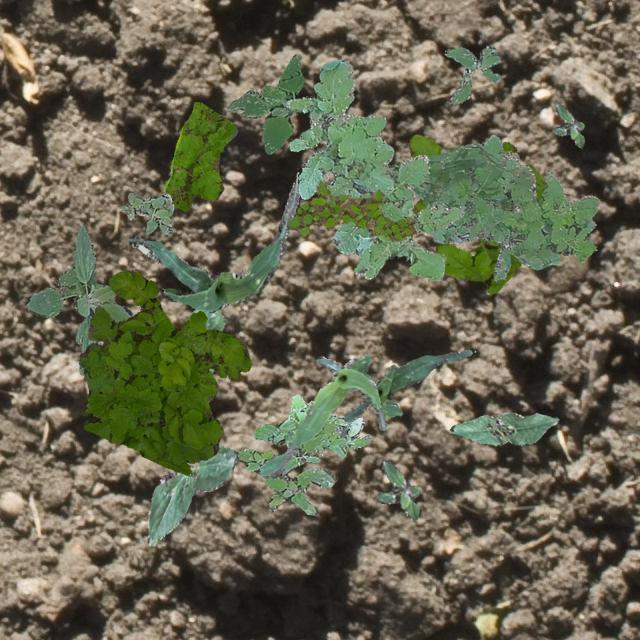crop: (128, 172, 298, 312), (258, 354, 386, 478), (146, 442, 238, 544), (344, 348, 471, 421), (449, 410, 557, 444), (192, 307, 224, 373)
weed: (284, 58, 462, 280), (77, 270, 250, 474), (387, 133, 598, 280), (408, 134, 546, 292), (236, 394, 370, 514), (26, 224, 132, 374), (164, 100, 236, 210), (286, 180, 414, 240), (226, 53, 302, 154), (444, 44, 499, 104), (376, 460, 418, 520), (120, 192, 172, 234), (552, 104, 584, 146)
